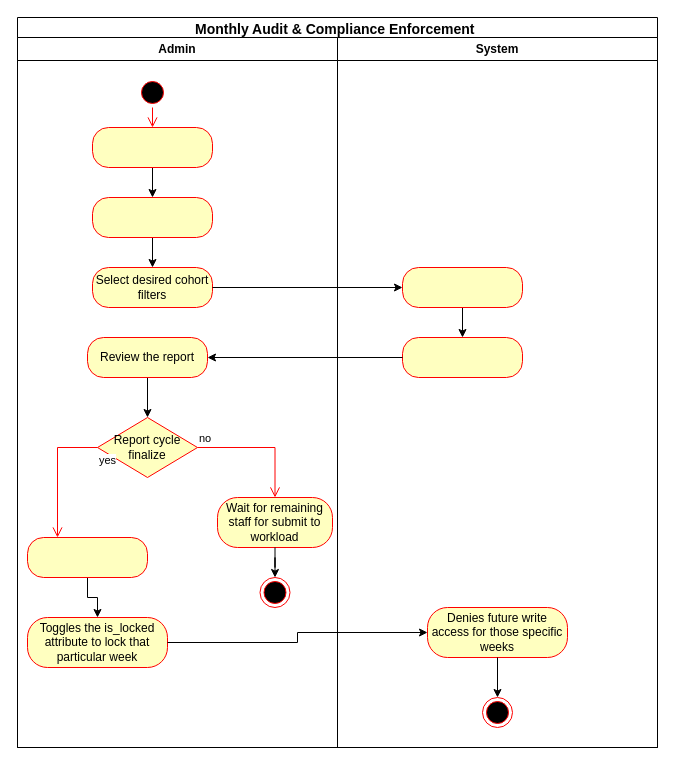
Image size: 675x765. Some labels were removed from this diagram. The shapes that lost their labels are listed below. From the top down, each one's box as (x1, y1, x2, y2) in pixels, then its label:
(92, 126, 212, 168): Logs in
(92, 196, 212, 238): Navigates to the reporting suit
(402, 266, 522, 308): Aggregate the target vs. Cumulative
(402, 336, 522, 378): Export dataset to formatted excel file
(26, 536, 148, 578): Navigates to the academic week panel
